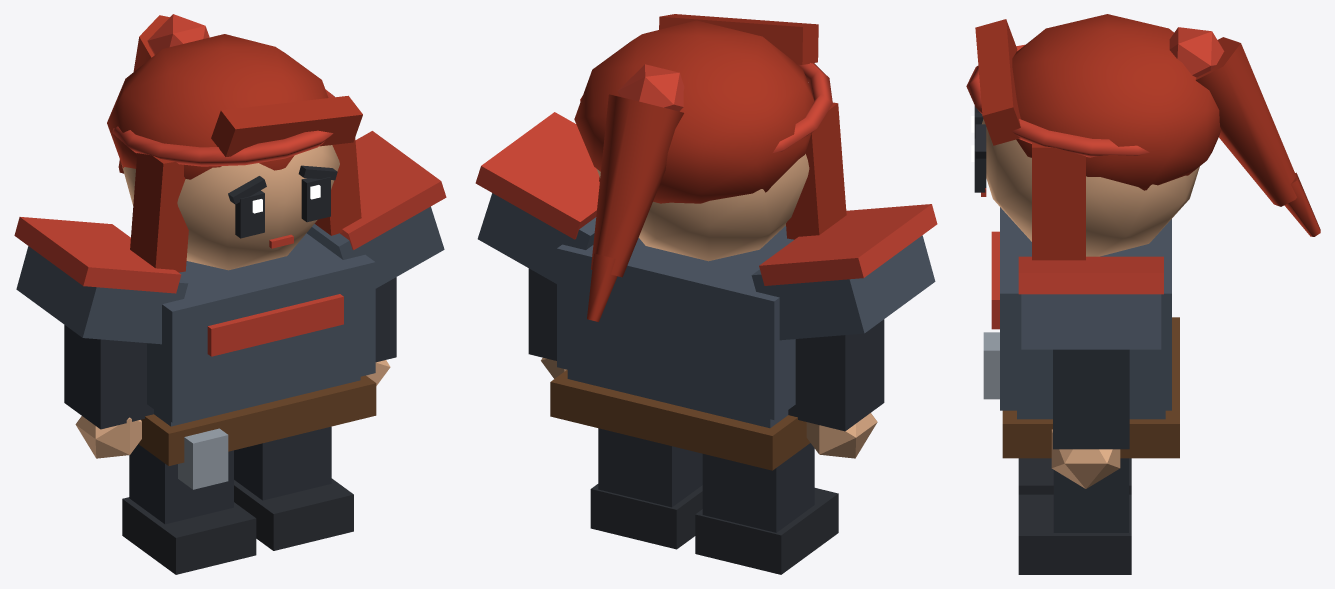
Rendered from gina.glb.
The picture shows the model from 3 angles, left to right: view 1: azimuth 30°, elevation 25°; view 2: azimuth 150°, elevation 25°; view 3: azimuth 270°, elevation 25°; orthographic projection. The views are drawn at different scales.
Visible parts, largest first — view 1: torso, head, legR, legL, armR, ponytail, armL; view 2: torso, head, legR, ponytail, legL, armR, armL; view 3: head, torso, legL, ponytail, armL, legR.
Part boxes in pixels (box(x1,y1,x2,y2)): torso: box(14, 131, 446, 489); head: box(107, 34, 362, 272); legR: box(122, 444, 256, 574); legL: box(234, 426, 353, 550); armR: box(64, 325, 153, 458); ponytail: box(118, 14, 209, 173); armL: box(366, 277, 396, 385); torso: box(475, 112, 937, 470); head: box(574, 14, 846, 261); legR: box(695, 443, 838, 574); ponytail: box(587, 64, 684, 321); legL: box(590, 428, 702, 549); armR: box(788, 319, 884, 458); armL: box(528, 268, 566, 378); head: box(966, 14, 1221, 260); torso: box(983, 207, 1179, 458); legL: box(1018, 458, 1131, 574); ponytail: box(1169, 27, 1320, 236); armL: box(1051, 349, 1129, 488); legR: box(1018, 458, 1131, 494).
Bounding box in the file's own units: 0.8878 × 1.11 × 0.7112.
